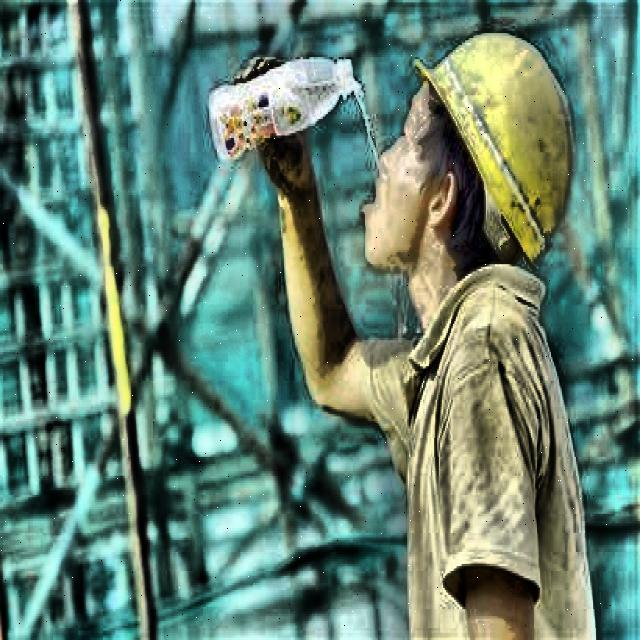helmet: (350, 19, 588, 295)
